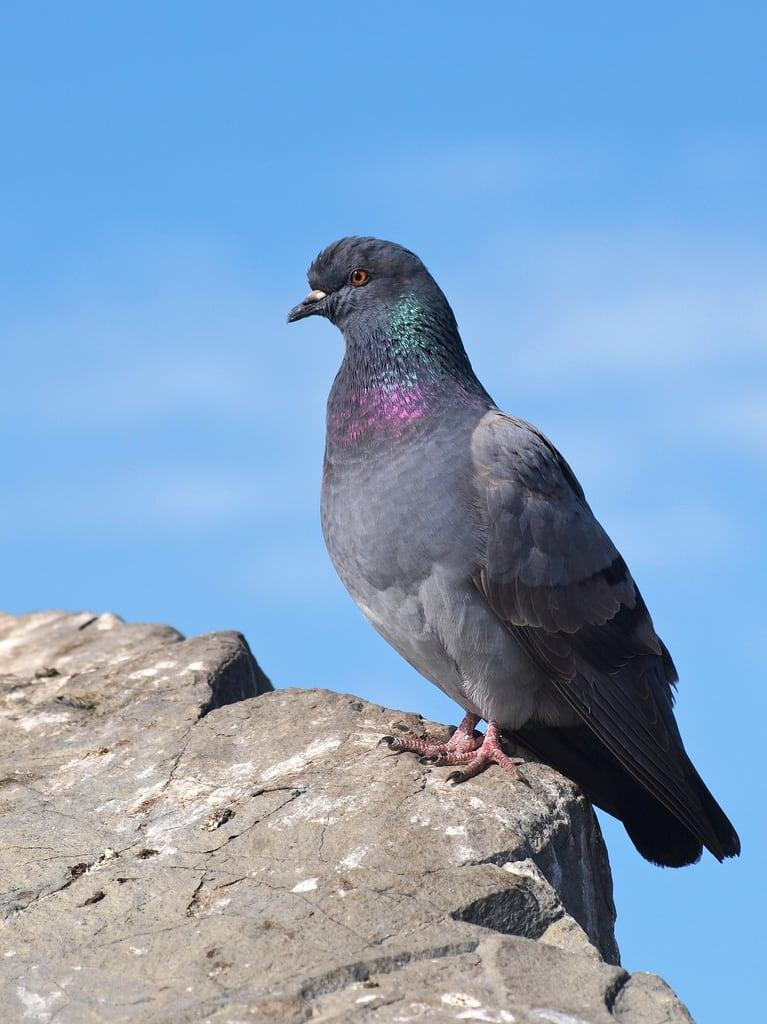Flying Rat: (269, 225, 767, 893)
